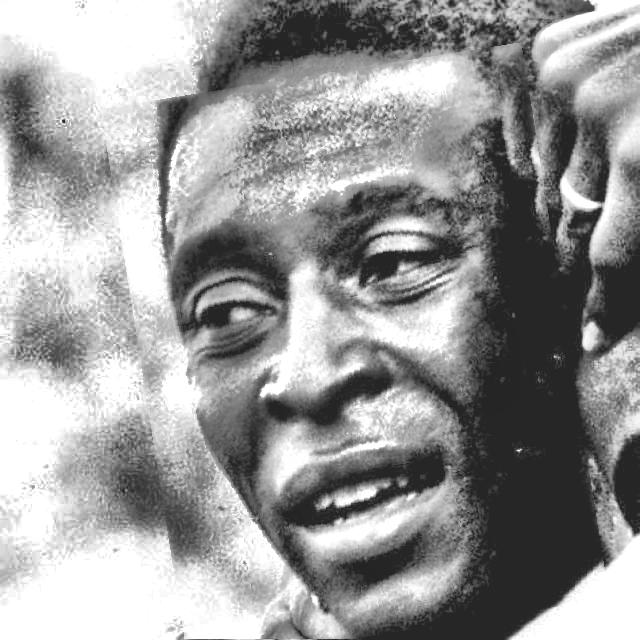sad: (121, 57, 588, 640)
